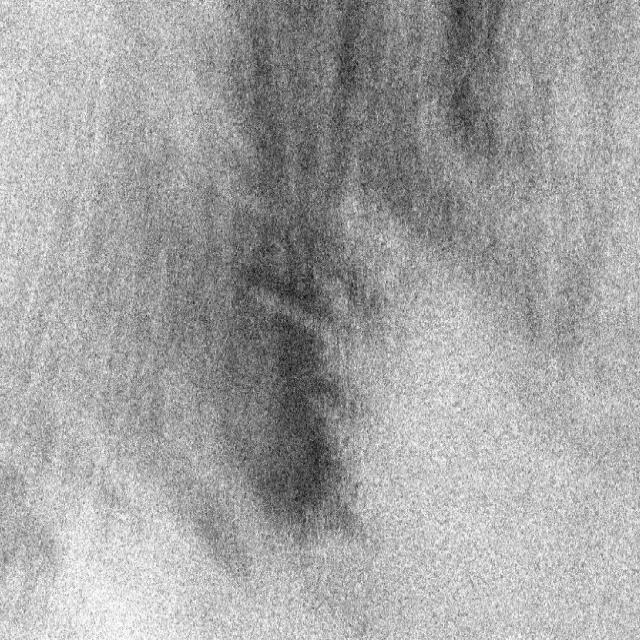look-alike: (182, 6, 429, 553)
